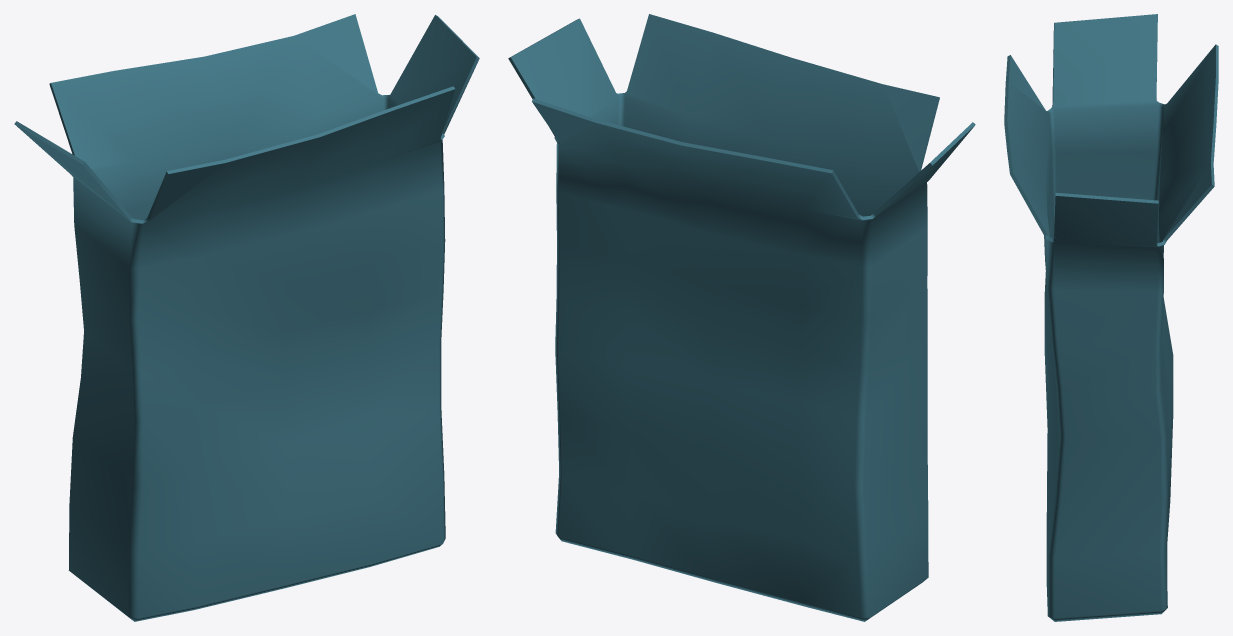
Rendered from SM_SmallTrashkit_snacksBox_001.fbx.
3 views of the same model, side by side, from view 1: azimuth 30°, elevation 25°; view 2: azimuth 150°, elevation 25°; view 3: azimuth 270°, elevation 25° (orthographic). The views are drawn at different scales.
Parts seen in each view (by area): view 1: SM_SmallTrashkit_snacksBox_001; view 2: SM_SmallTrashkit_snacksBox_001; view 3: SM_SmallTrashkit_snacksBox_001.
Part boxes in pixels (bbox=[...]): SM_SmallTrashkit_snacksBox_001: bbox=[14, 14, 479, 621]; SM_SmallTrashkit_snacksBox_001: bbox=[508, 14, 975, 621]; SM_SmallTrashkit_snacksBox_001: bbox=[1004, 14, 1218, 621].
Size of the model in its own units: 40.18 by 43.73 by 18.94.
